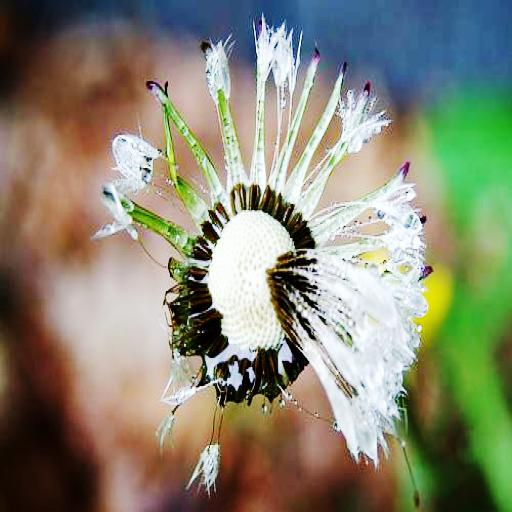dandelion: (100, 24, 418, 468)
